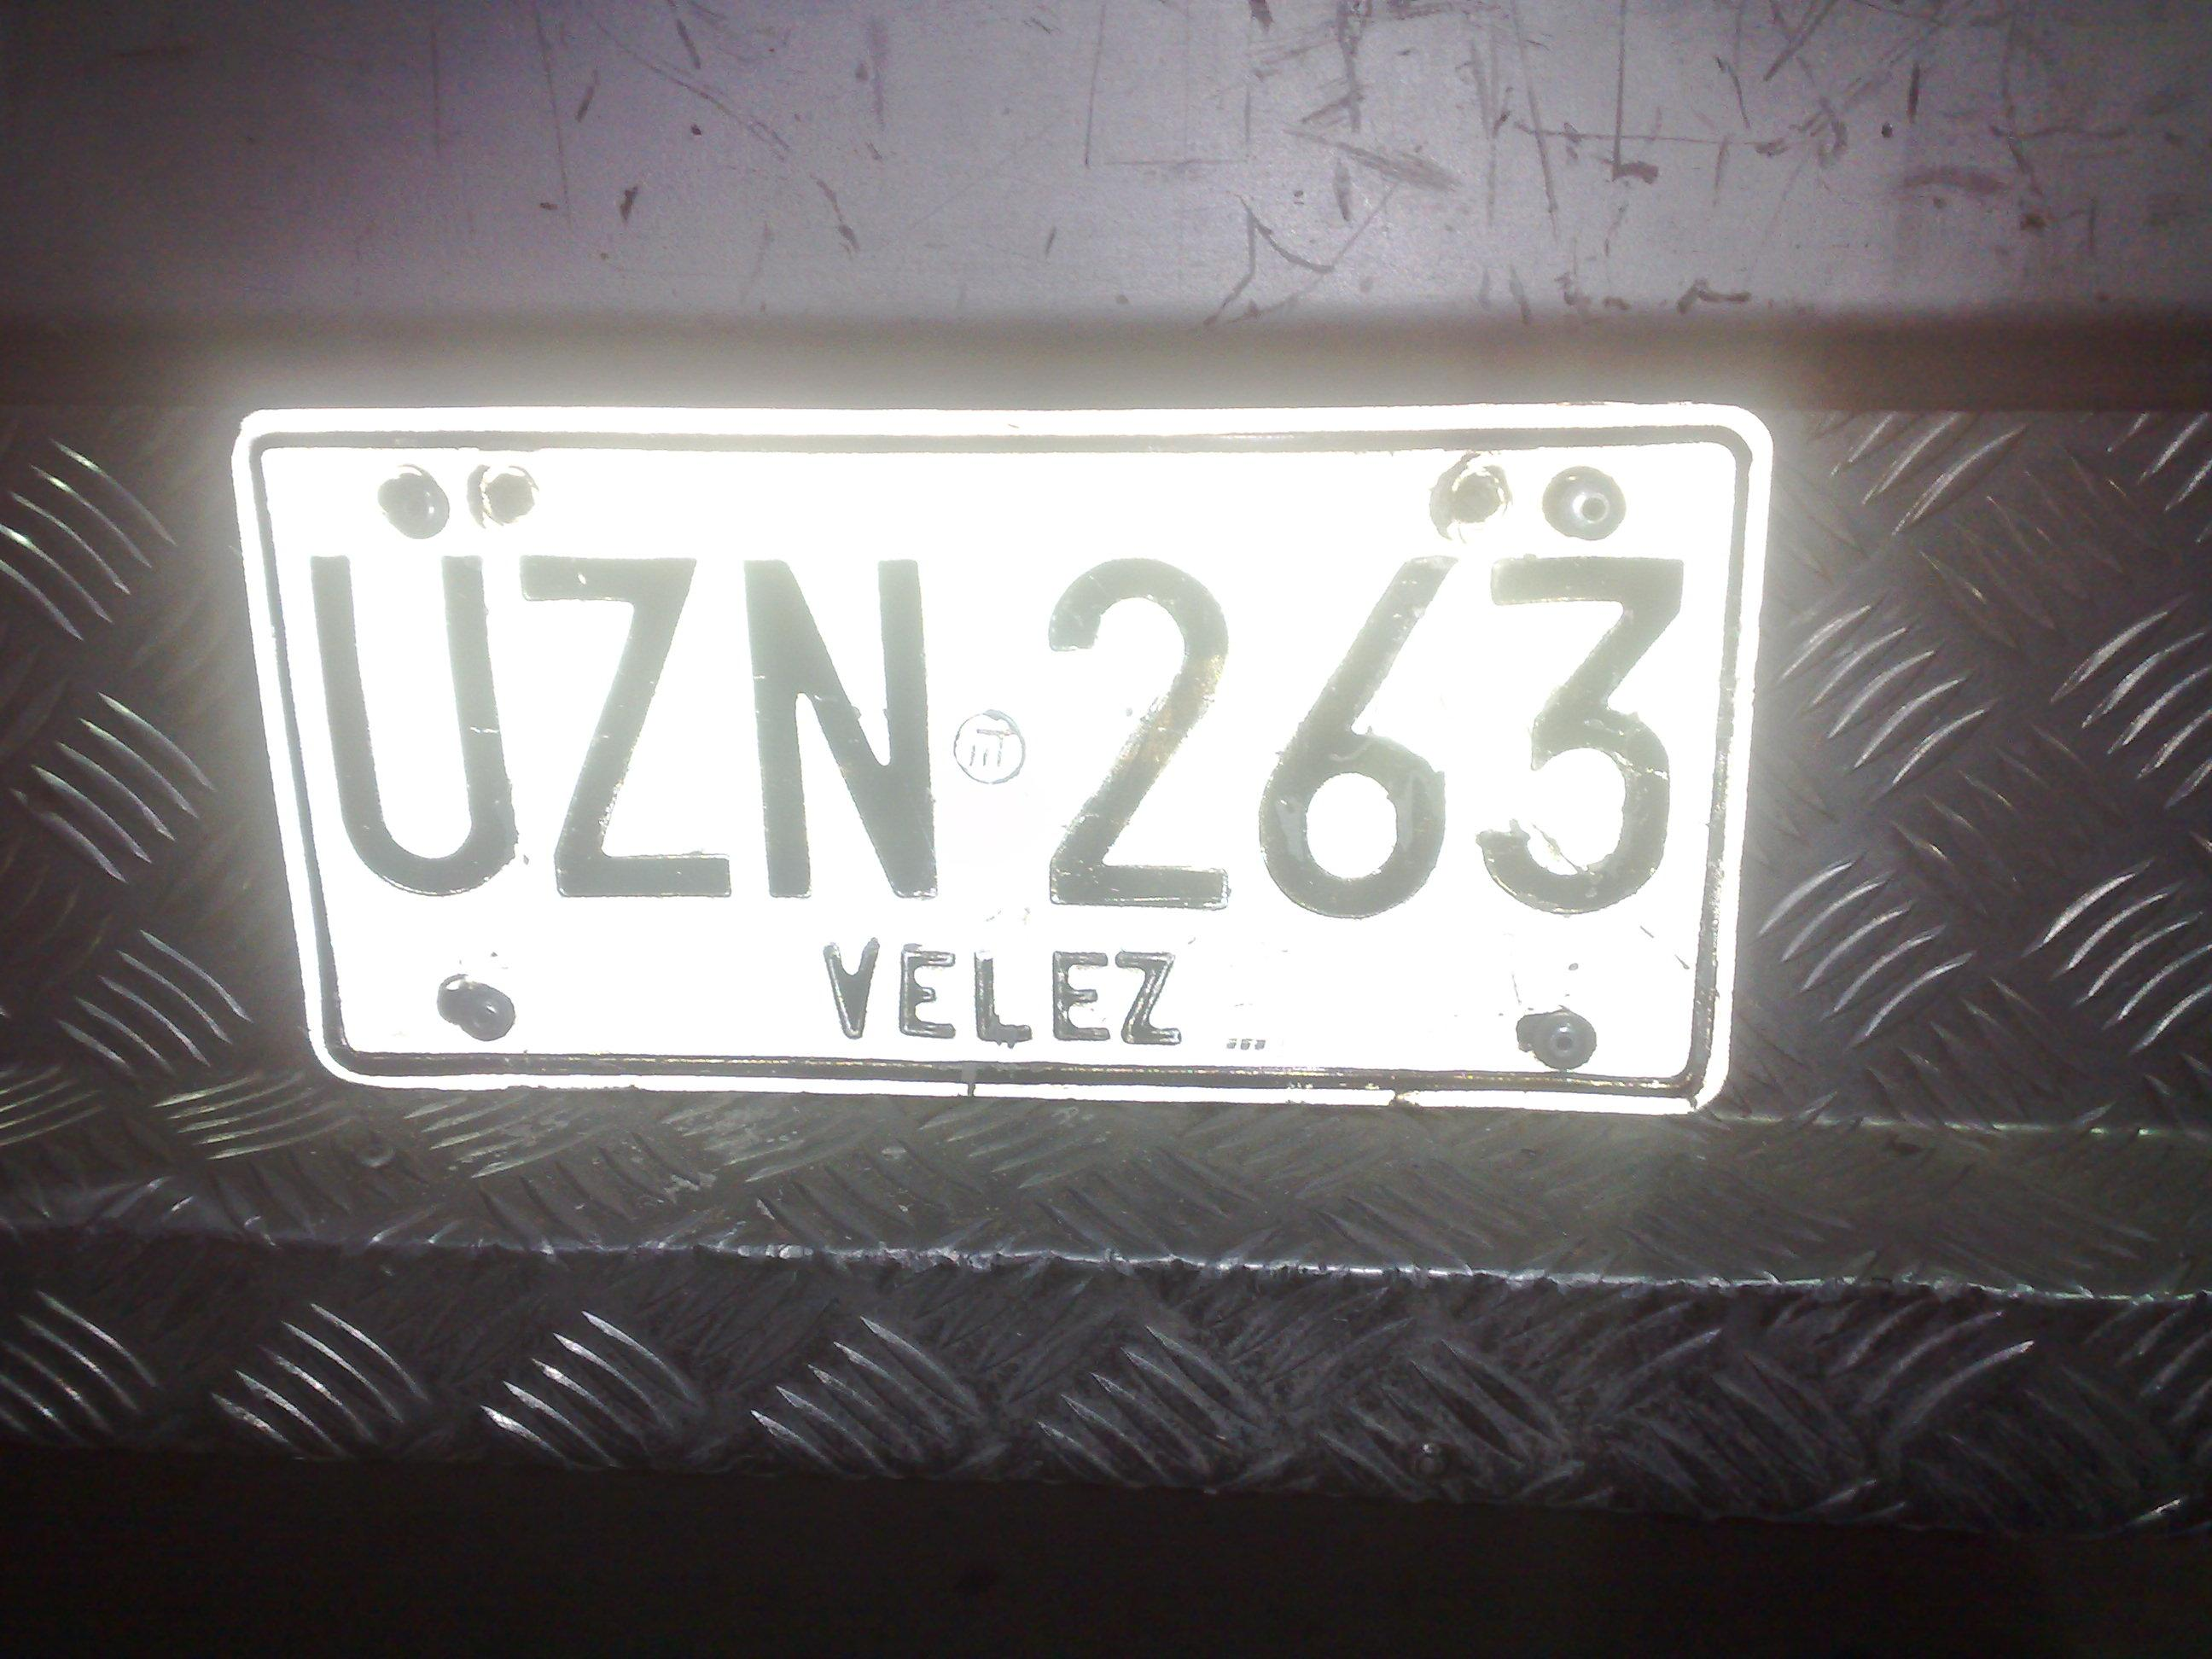placas: (217, 387, 1780, 1123)
